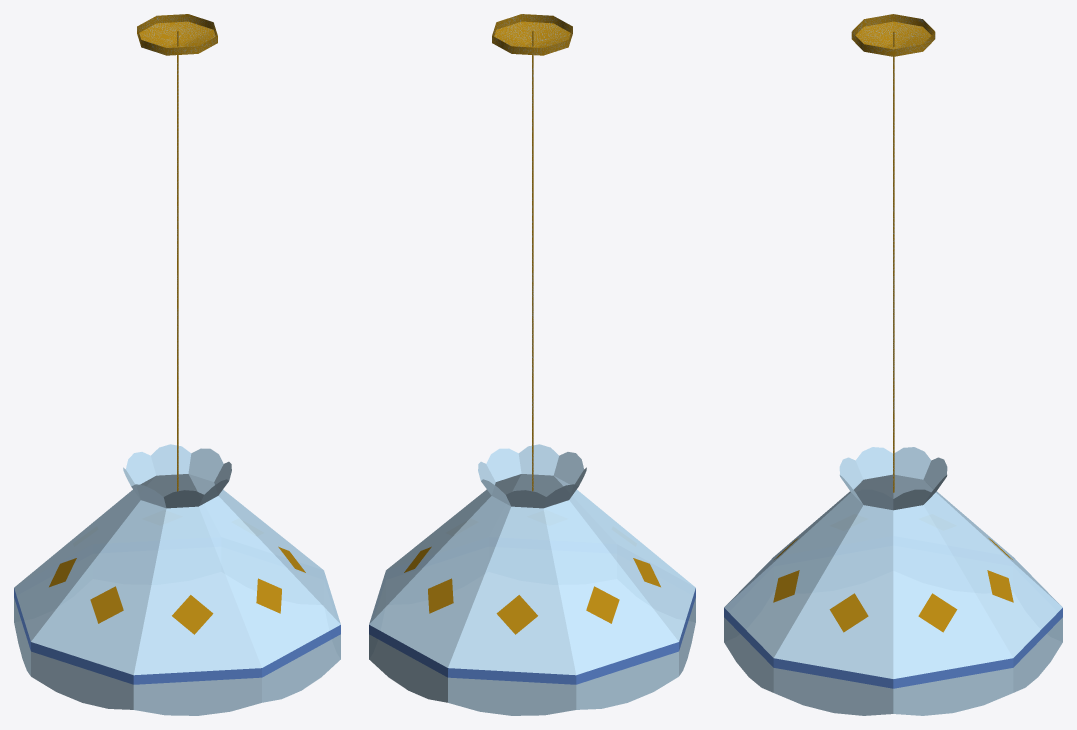
Rendered from ceiling_light.fbx.
3 renders of one model, left to right at view 1: azimuth 30°, elevation 25°; view 2: azimuth 150°, elevation 25°; view 3: azimuth 270°, elevation 25°, orthographic.
Visible parts, largest first — view 1: Glass_Designs7, Glass_Designs8, Glass_Designs6, Glass_Designs1, Glass_Designs5, Clamp1, Designs7, Designs8, Glass_Designs3, Designs6, Glass_Designs4, Rod1 (+2 smaller); view 2: Glass_Designs2, Glass_Designs1, Glass_Designs3, Glass_Designs8, Glass_Designs4, Clamp1, Designs2, Designs1, Glass_Designs6, Designs3, Glass_Designs5, Rod1 (+2 smaller); view 3: Glass_Designs4, Glass_Designs5, Glass_Designs3, Glass_Designs6, Clamp1, Designs4, Designs5, Glass_Designs1, Glass_Designs8, Designs3, Designs6, Glass_Designs2 (+2 smaller).
Part boxes in pixels (x1,y1,x2,y2): Glass_Designs7: (133,490,261,715); Glass_Designs8: (31,484,166,709); Glass_Designs6: (198,479,340,702); Glass_Designs1: (14,467,140,675); Glass_Designs5: (214,461,340,624); Clamp1: (137,14,217,55); Designs7: (133,595,261,684); Designs8: (31,586,133,684); Glass_Designs3: (146,444,197,496); Designs6: (256,578,340,677); Glass_Designs4: (188,448,223,494); Rod1: (177,55,178,491); Glass_Designs2: (448,490,576,715); Glass_Designs1: (543,484,678,709); Glass_Designs3: (369,479,511,702); Glass_Designs8: (569,467,695,675); Glass_Designs4: (369,461,495,624); Clamp1: (492,14,572,55); Designs2: (448,595,576,684); Designs1: (576,586,678,684); Glass_Designs6: (512,444,563,496); Designs3: (369,578,453,677); Glass_Designs5: (486,448,521,494); Rod1: (532,55,533,491); Glass_Designs4: (893,489,1013,715); Glass_Designs5: (773,489,893,715); Glass_Designs3: (923,475,1062,692); Glass_Designs6: (724,475,863,692); Clamp1: (851,14,935,56); Designs4: (893,593,1013,688); Designs5: (773,593,893,688); Glass_Designs1: (893,447,932,498); Glass_Designs8: (854,447,893,498); Designs3: (987,570,1062,667); Designs6: (724,570,799,667); Glass_Designs2: (923,457,1061,606).
Size of the model in its own units: 0.4064 by 0.8207 by 0.4064.
